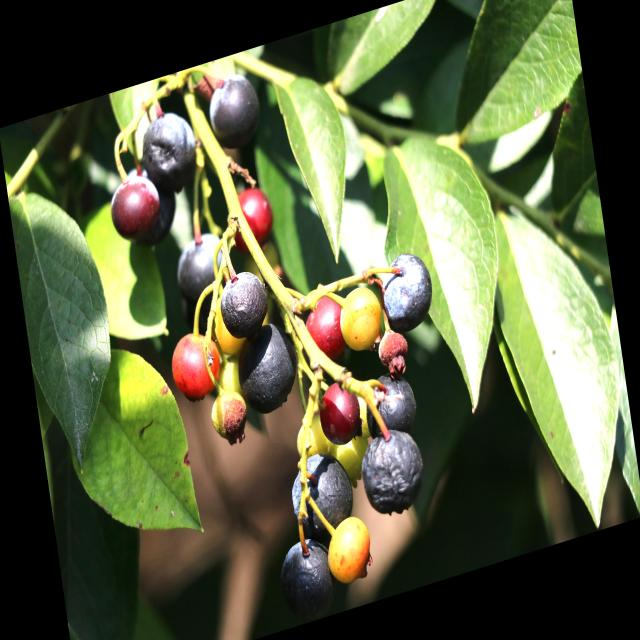blueberry: (353, 416, 434, 529), (229, 308, 303, 427), (279, 440, 359, 550), (135, 100, 208, 206), (114, 154, 183, 255), (372, 242, 439, 342), (274, 527, 342, 625), (201, 64, 268, 159), (170, 222, 237, 312), (358, 361, 423, 447), (215, 259, 275, 349)
blueberry-halfripe: (165, 321, 229, 408), (314, 374, 368, 453), (322, 514, 378, 588), (106, 173, 164, 241), (335, 278, 385, 356), (301, 288, 348, 361), (229, 178, 277, 247)
